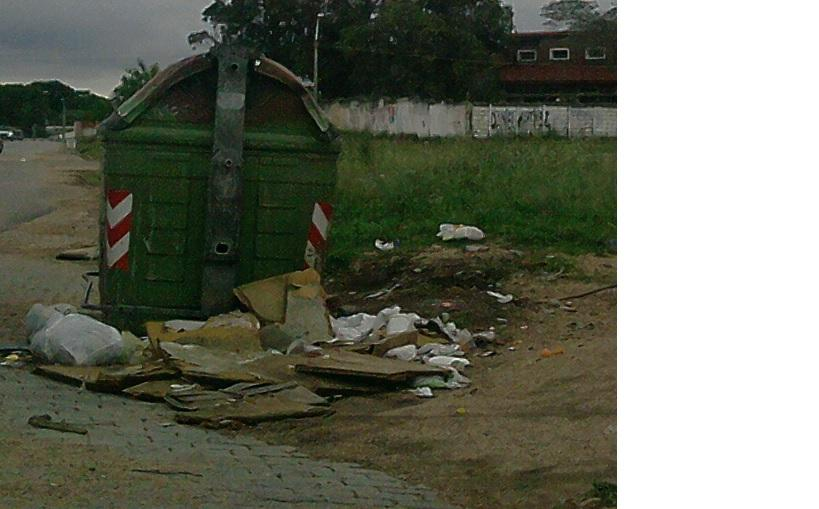Dechets: (33, 329, 232, 413), (333, 309, 479, 374), (237, 268, 336, 346), (174, 386, 329, 430), (142, 324, 267, 378), (25, 304, 131, 366), (306, 355, 454, 381), (409, 374, 479, 399), (26, 415, 90, 436), (435, 221, 485, 242), (480, 288, 516, 308), (372, 238, 394, 252)
Trash: (102, 52, 345, 327)
